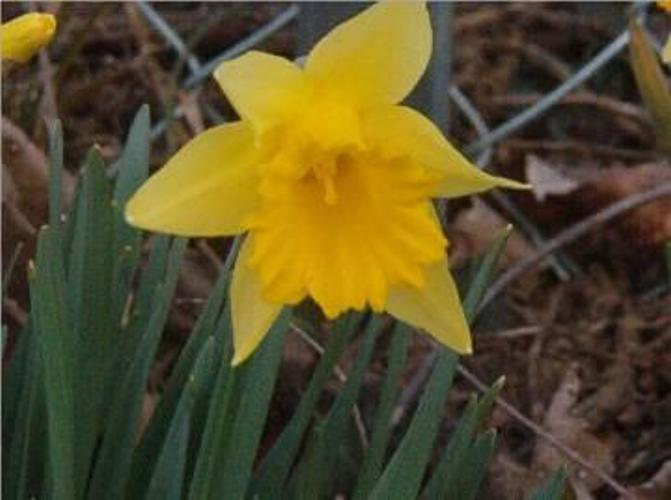flower1: (123, 4, 536, 360)
